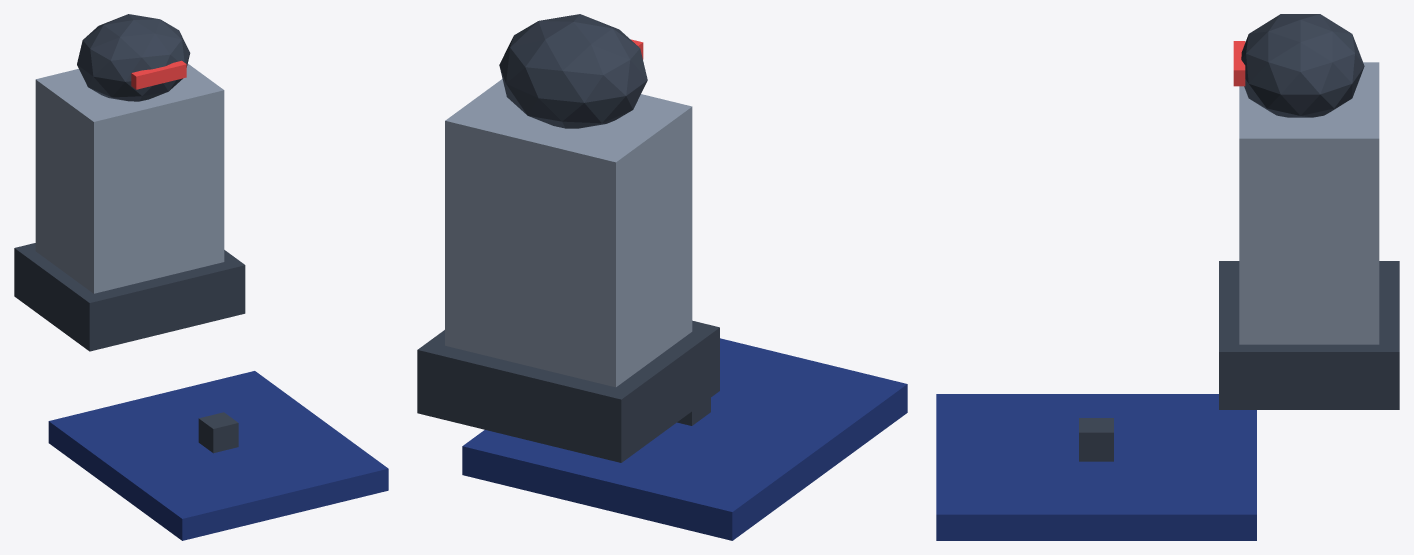
File: robot_armored.fbx
3 renders of one model, left to right at view 1: azimuth 30°, elevation 25°; view 2: azimuth 150°, elevation 25°; view 3: azimuth 270°, elevation 25°, orthographic. The views are drawn at different scales.
Visible parts, largest first — view 1: Body, Shield; view 2: Body, Shield; view 3: Body, Shield.
Part boxes in pixels (box(x1,y1,x2,y2)): Body: box(14, 14, 245, 351); Shield: box(48, 371, 388, 540); Body: box(417, 14, 719, 462); Shield: box(462, 338, 907, 540); Body: box(1219, 14, 1399, 409); Shield: box(936, 394, 1256, 540).
Bounding box in the file's own units: 0.98 × 1.77 × 1.59.
